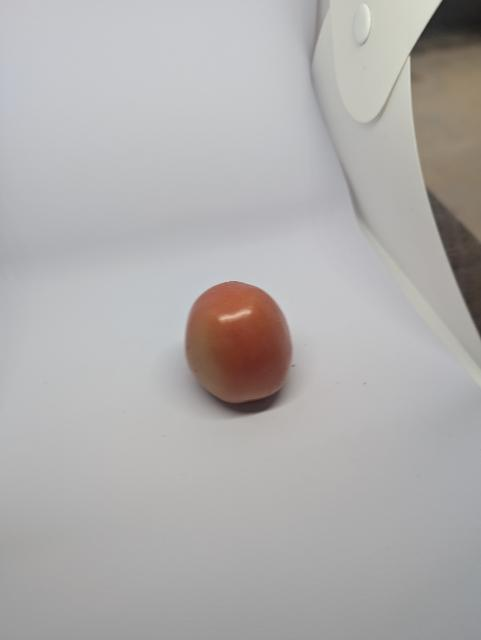red: (176, 275, 317, 420)
